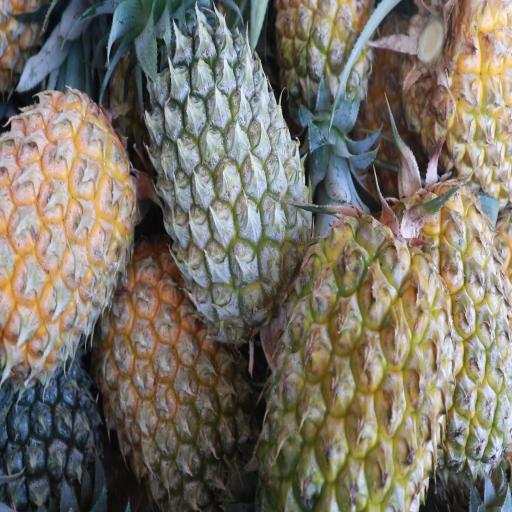------------------------------: (276, 0, 377, 188)
Pineapple - v8 v1: (267, 217, 448, 512), (102, 256, 256, 509), (0, 93, 141, 358), (385, 180, 512, 468), (400, 0, 511, 178)
